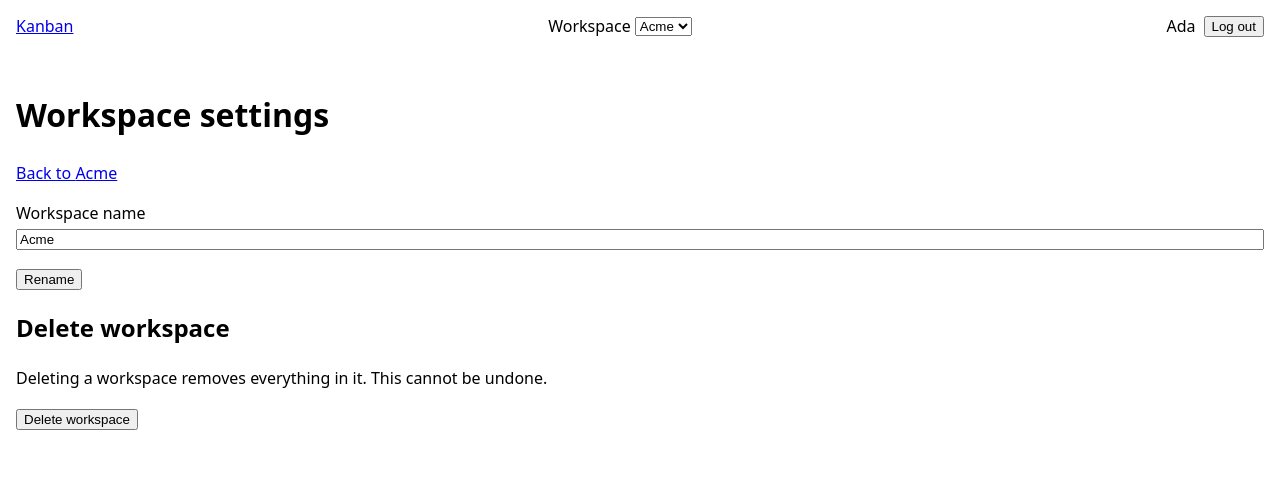
Test: settings page › lets the owner rename optimistically and rolls back when the server refuses
Later steps or results of the test are not shown.
Replace the text in the field labelled "Workspace name" with "Renamed" at coordinates (640, 239), box [16,229,1264,250]
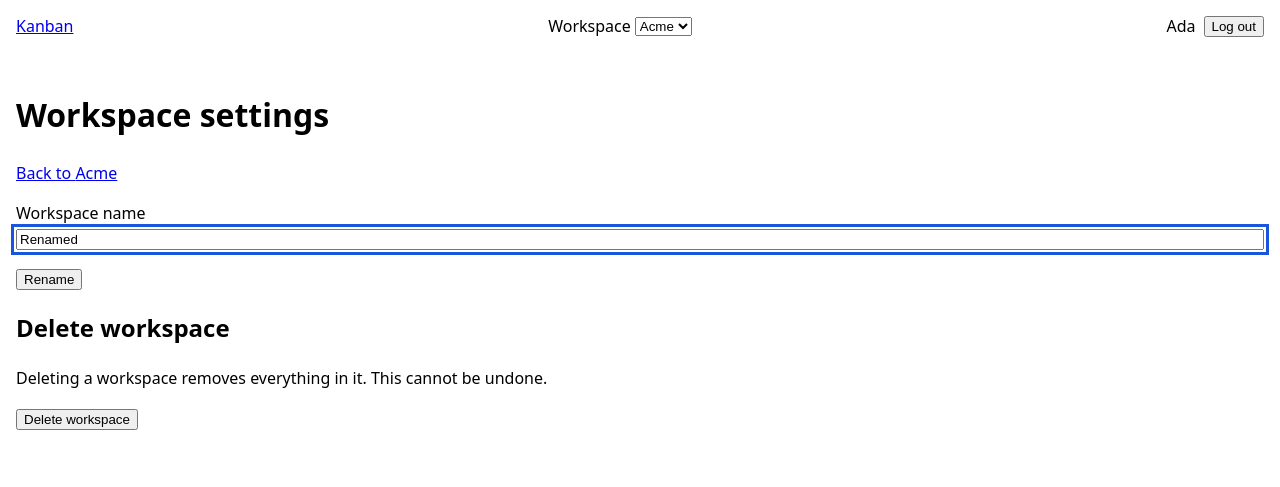
Click the button "Rename" at coordinates (49, 279), box [16,269,82,290]
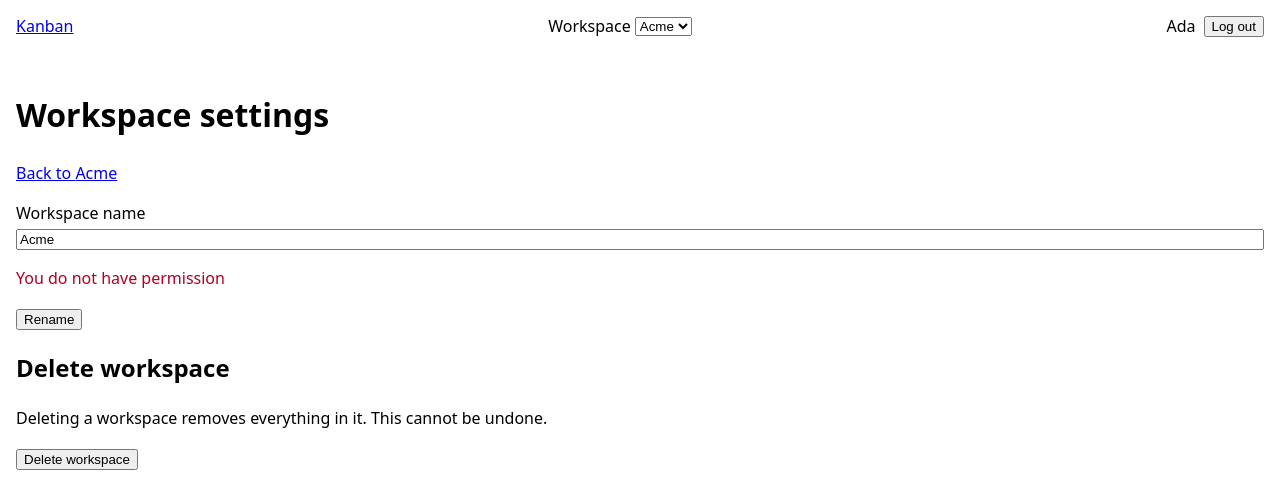
Now the text "You do not have permission" is shown, box [16,267,225,289]
Now the field labelled "Workspace name" holds "Acme", box [16,229,1264,250]
